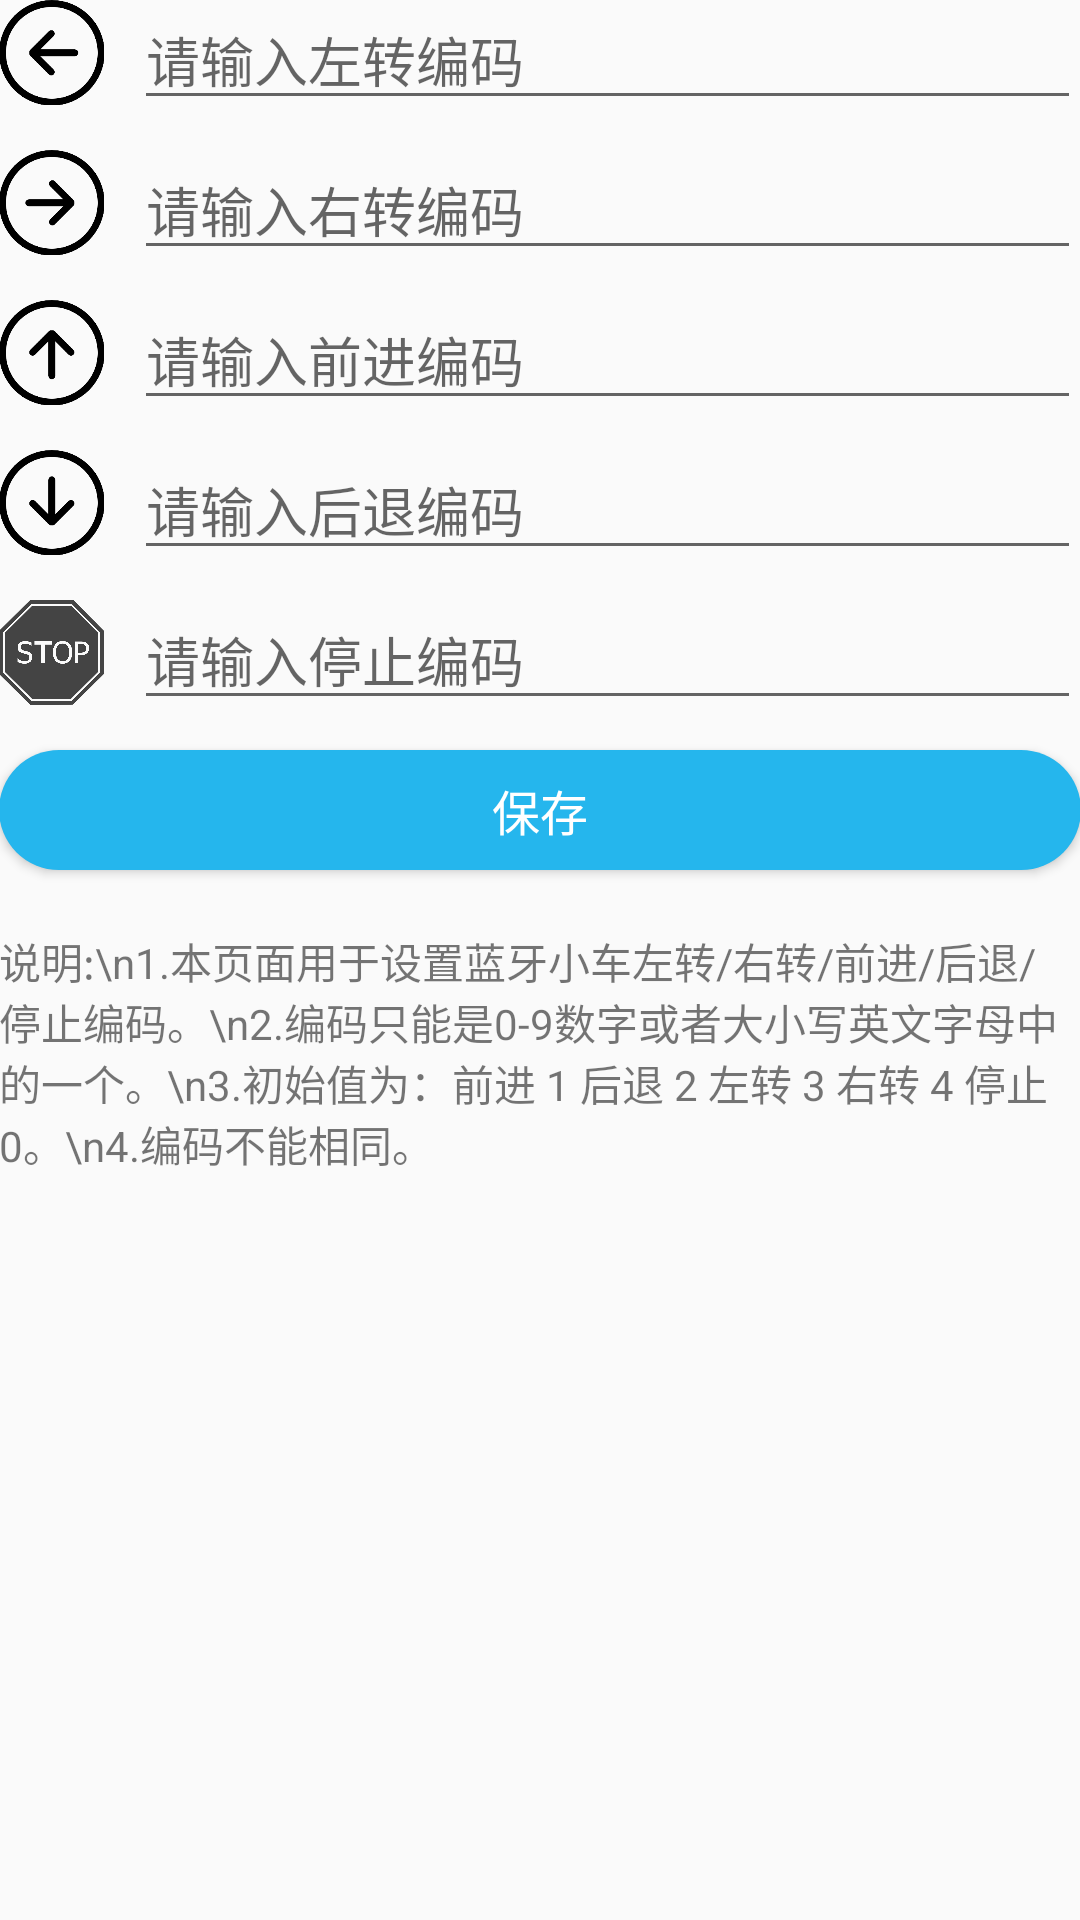

Named icons in this screenshot (1080w x 1920h) and their bounding boxes, (left=x1, top=y1, right=x2, bottom=y2):
left: (left=0, top=0, right=104, bottom=105)
right: (left=0, top=150, right=104, bottom=255)
